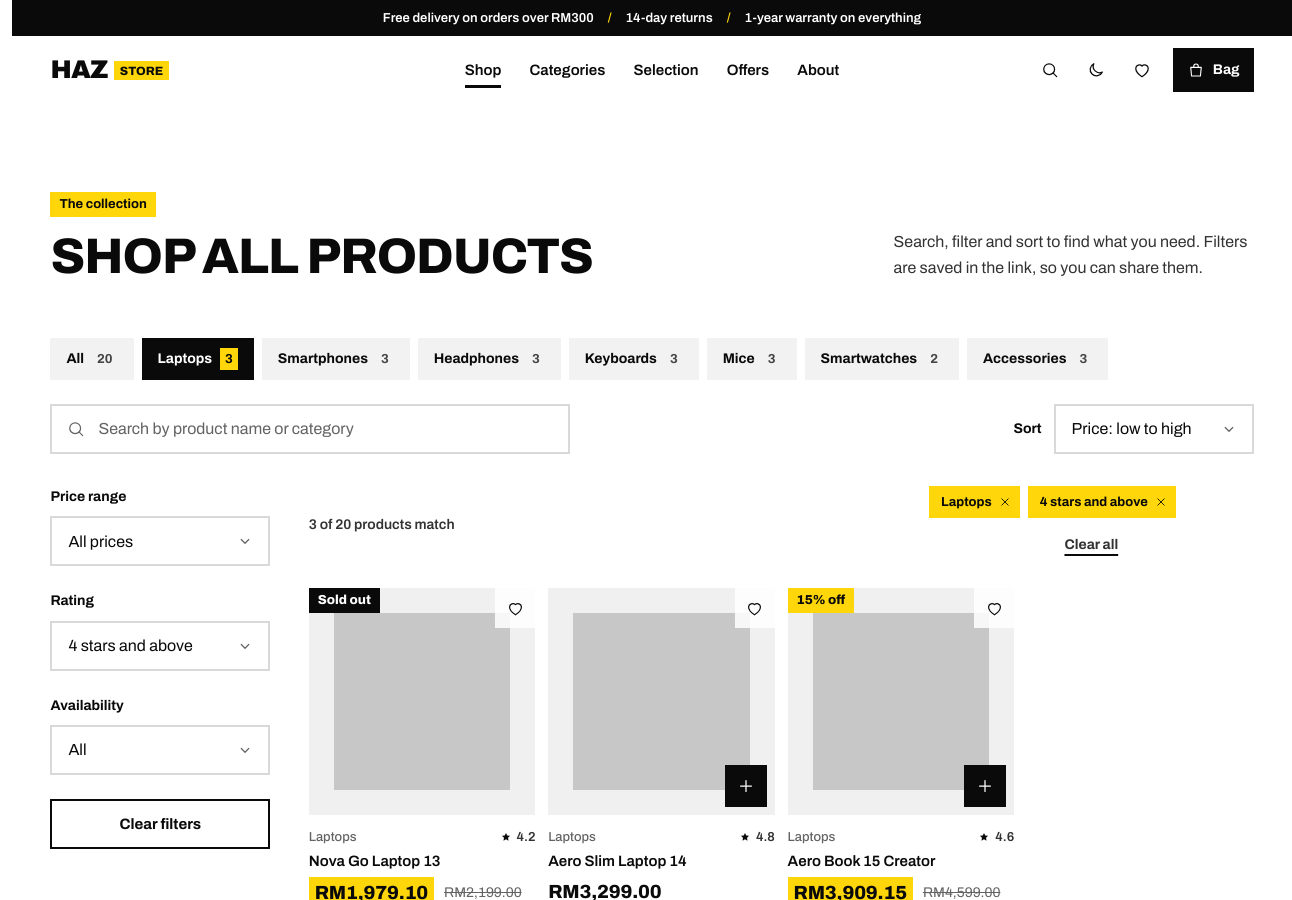
Test case: shop page › clears every filter at once but keeps the sort
The image size is (1292, 900).
Expected: the heading "Shop all products" is shown, left=50, top=229, right=593, bottom=283
Expected: the dropdown labelled "Sort" shows "Price: low to high", left=1054, top=404, right=1254, bottom=454
Click the button "Clear all": coordinates (1091, 545) left=929, top=526, right=1254, bottom=564
(page scrolled)
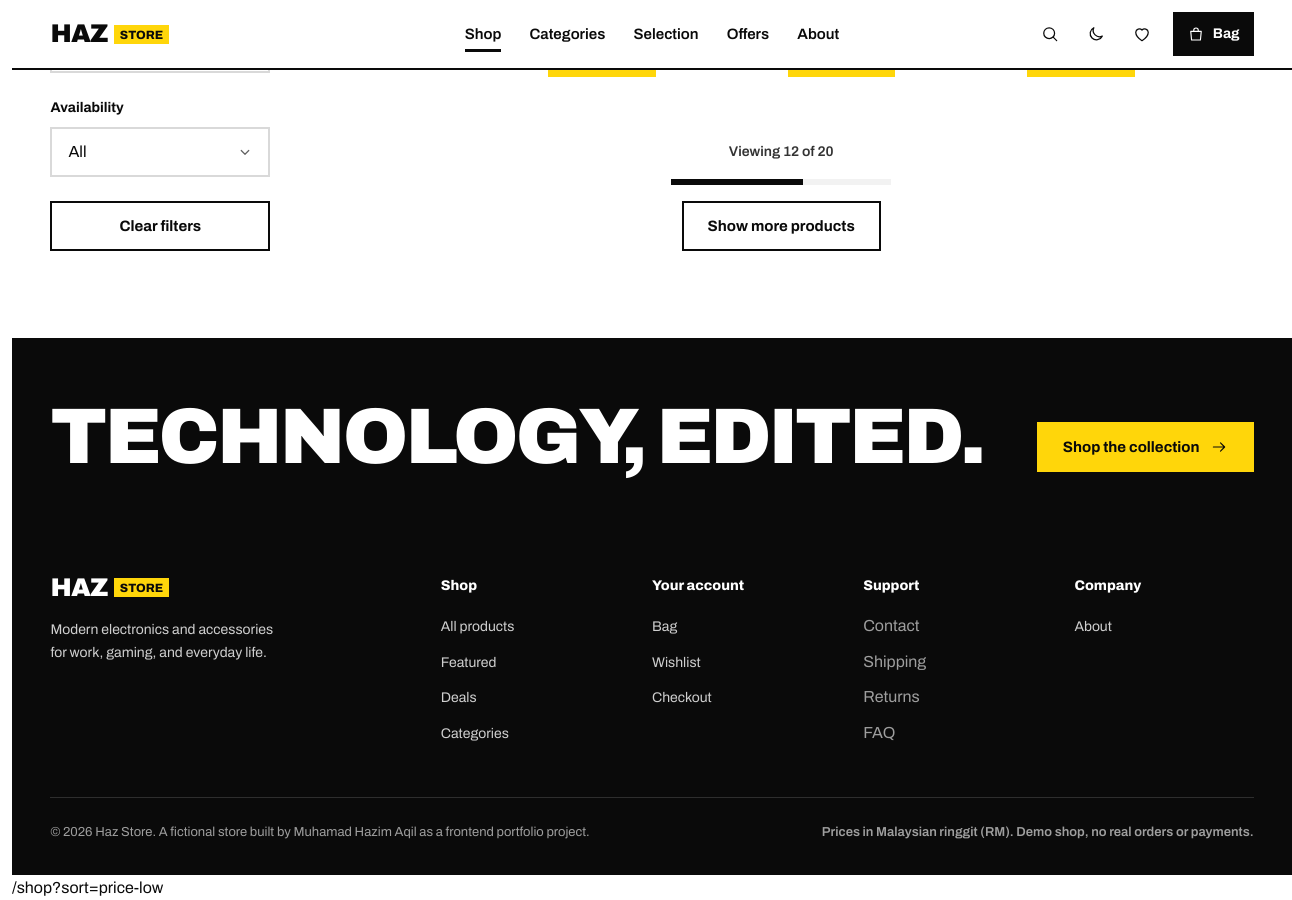
Now the text with test id "location" reads "/shop?sort=price-low", box left=12, top=879, right=163, bottom=896
